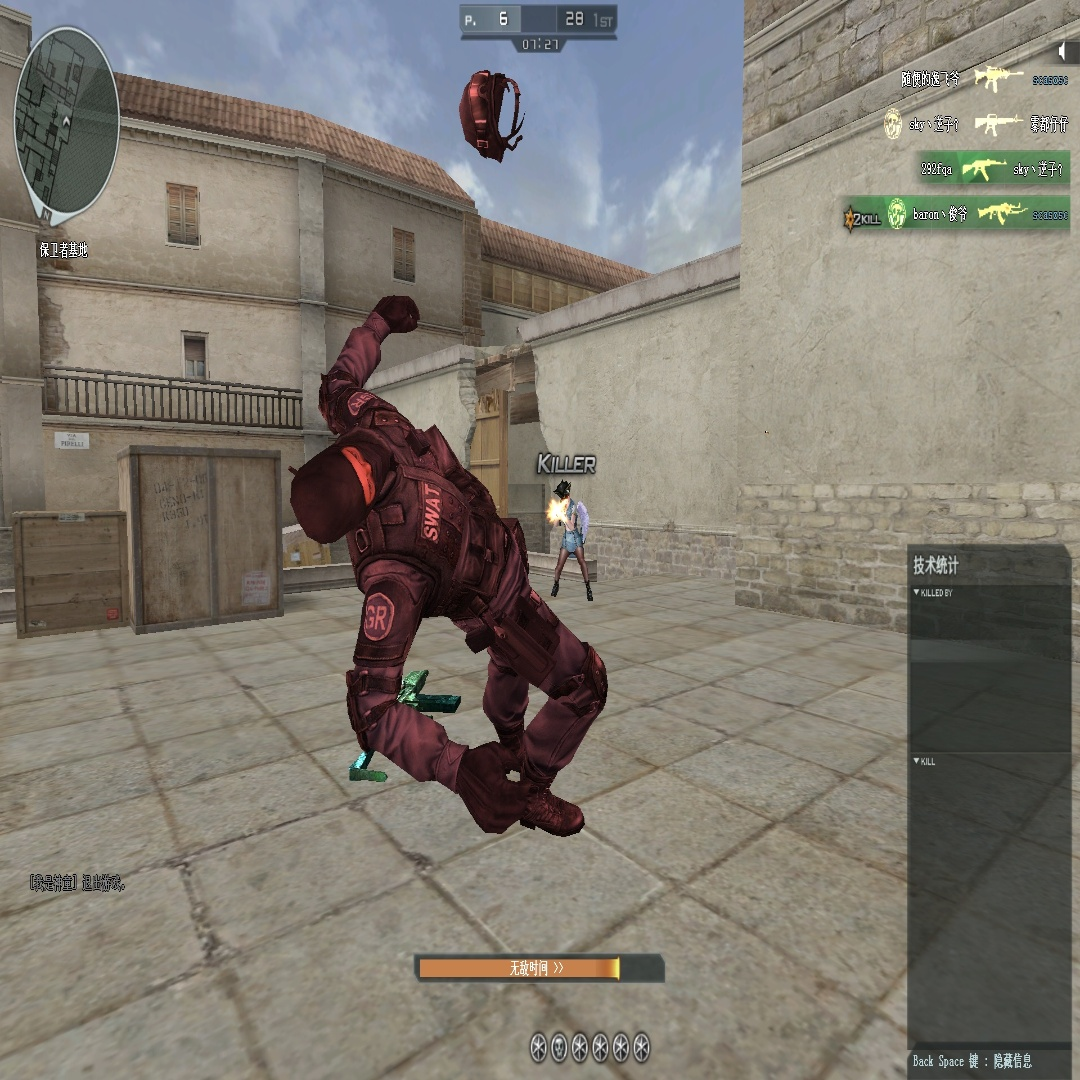head: (557, 480, 571, 508)
p: (549, 487, 593, 601)
